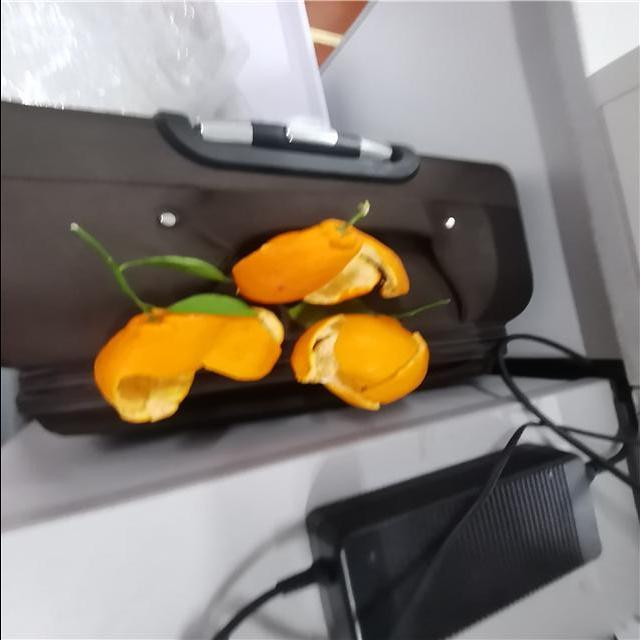orange peel: (89, 299, 287, 425), (233, 219, 406, 309), (296, 309, 432, 411)
